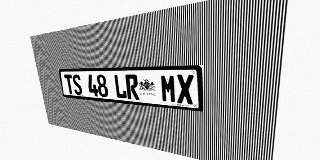4: (86, 74, 99, 96)
8: (96, 74, 109, 97)
L: (113, 74, 127, 99)
M: (160, 74, 177, 103)
R: (125, 74, 139, 100)
S: (72, 74, 83, 95)
T: (64, 74, 75, 94)
X: (176, 74, 194, 105)
